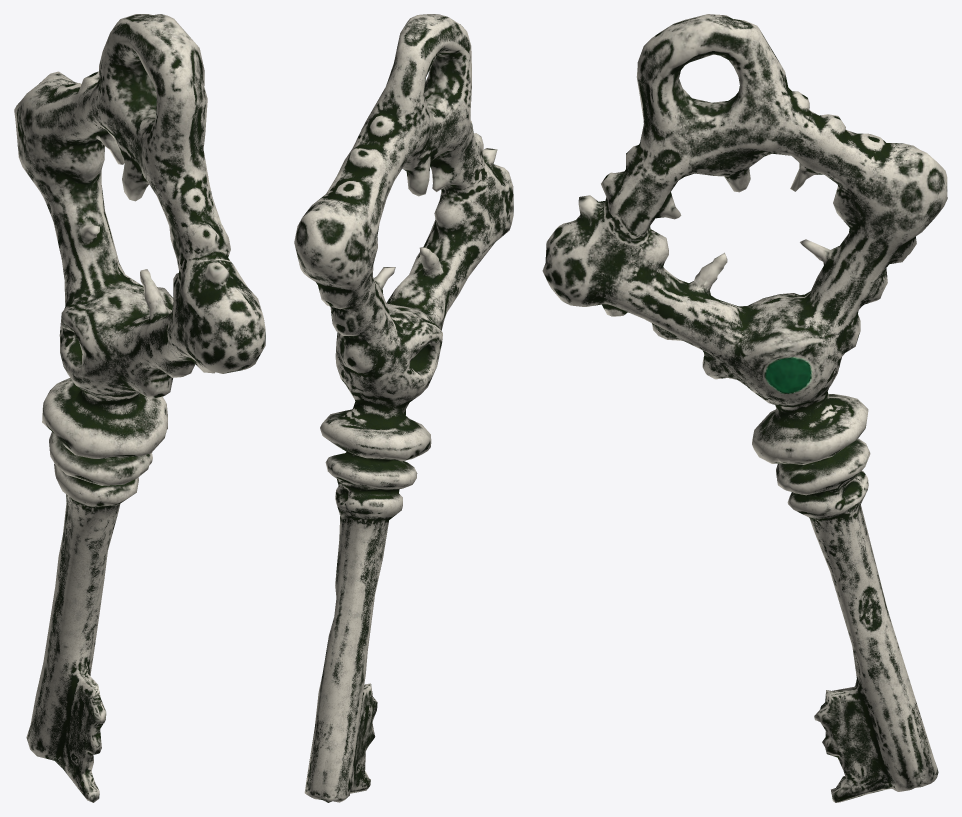
File: Magic_Key.fbx
The picture shows the model from 3 angles, left to right: view 1: azimuth 30°, elevation 25°; view 2: azimuth 150°, elevation 25°; view 3: azimuth 270°, elevation 25°; orthographic projection. The views are drawn at different scales.
Visible parts, largest first — view 1: Lowpoly_2; view 2: Lowpoly_2; view 3: Lowpoly_2.
Part boxes in pixels (bbox=[...]): Lowpoly_2: bbox=[14, 14, 265, 802]; Lowpoly_2: bbox=[294, 14, 513, 802]; Lowpoly_2: bbox=[542, 14, 947, 802].
Bounding box in the file's own units: 14.95 × 106 × 49.58.
Materials: 1 (1 with a texture image).
